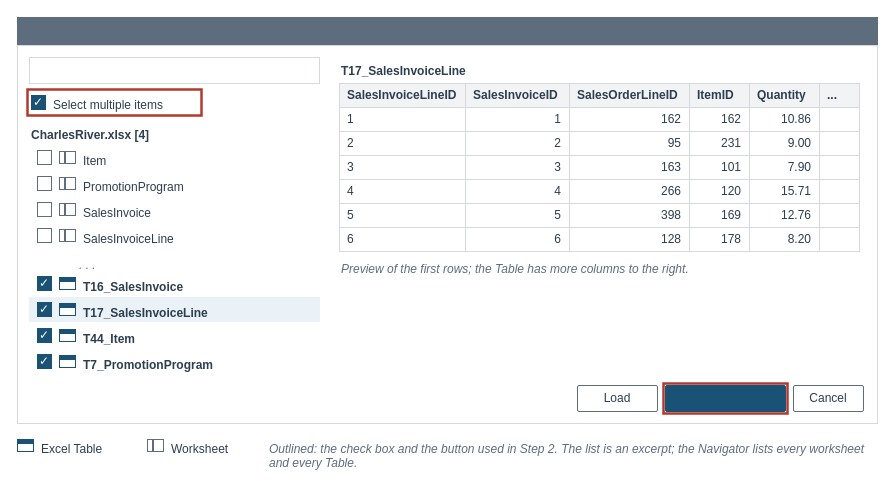
This 895x491 diagram has some shape labels left out. The box of each missing label's shape, as (x1, y1, x2, y2) in pixels:
Navigator: (16, 16, 878, 46)
Search: (28, 56, 320, 84)
Transform Data: (664, 384, 786, 412)
